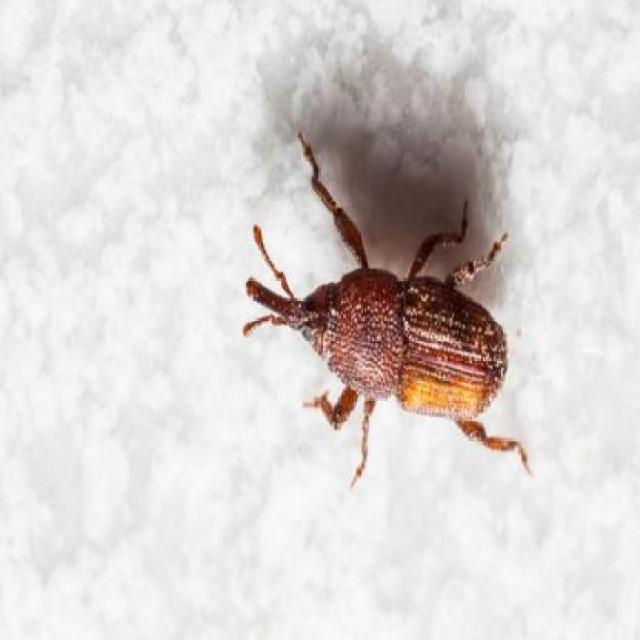rice-bug: (242, 221, 516, 453)
